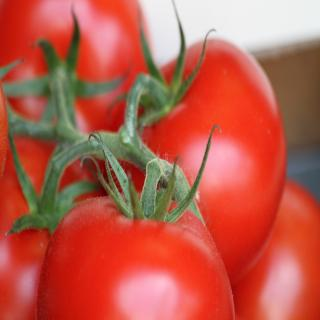tomato: (106, 0, 288, 285), (0, 130, 108, 319), (0, 0, 126, 127), (232, 180, 320, 320)
